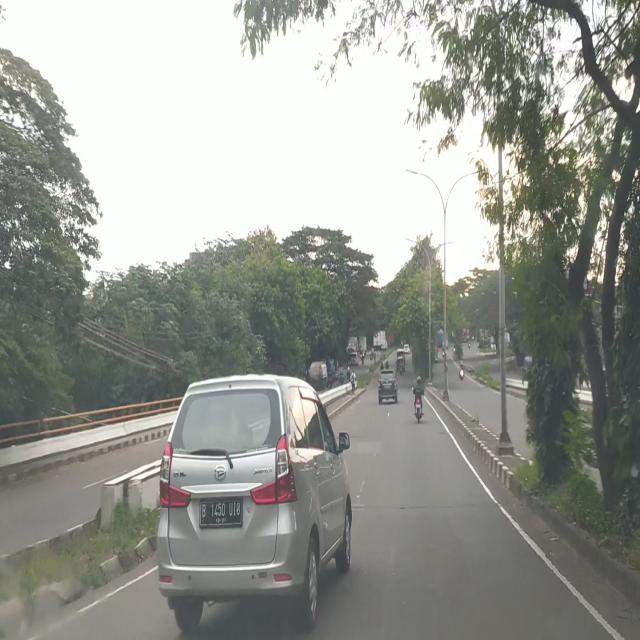Sewer Cover: (352, 503, 501, 512)
